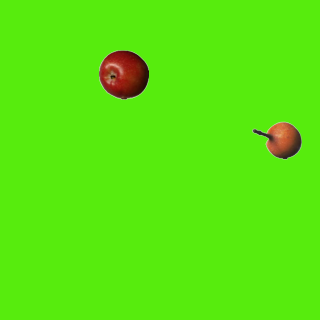Apple Braeburn: (98, 49, 148, 99)
Granadilla: (251, 115, 301, 165)
